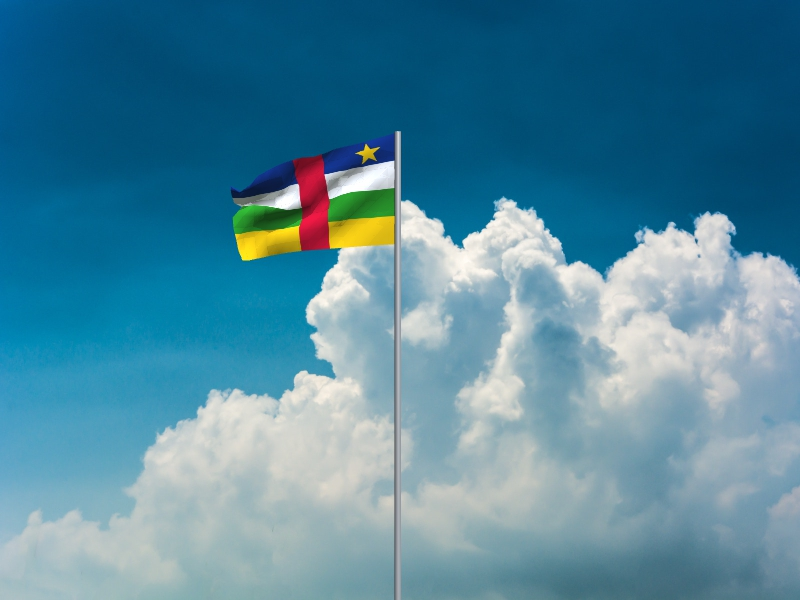cf: (230, 134, 395, 262)
